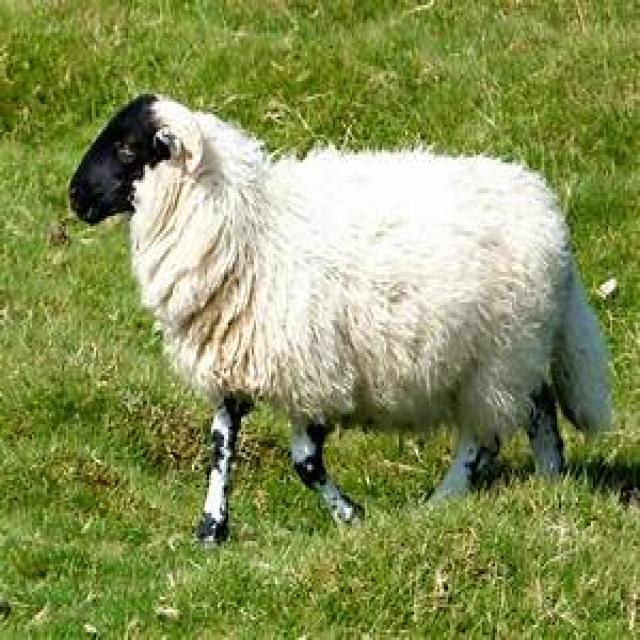animal: (66, 89, 615, 548)
